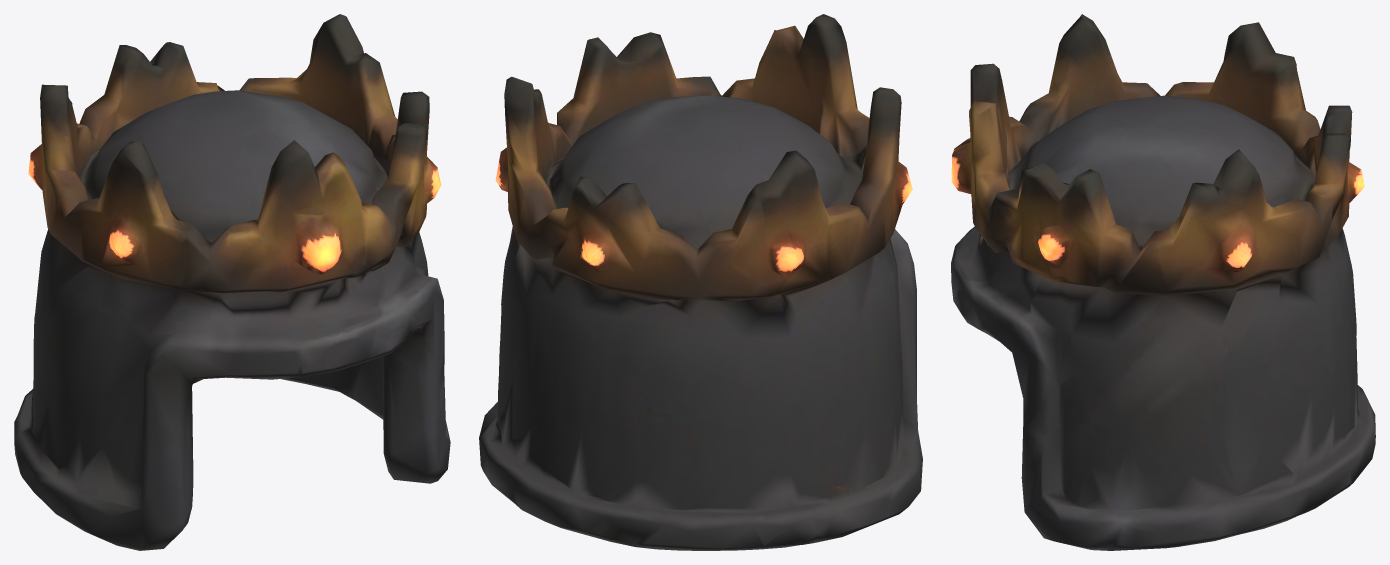
File: hat_ashCrownHelm-DMRzamzP.glb
The picture shows the model from 3 angles, left to right: view 1: azimuth 30°, elevation 25°; view 2: azimuth 150°, elevation 25°; view 3: azimuth 270°, elevation 25°; orthographic projection. The views are drawn at different scales.
Parts seen in each view (by area): view 1: tripo_node_bdce135e-5621-4349-9e82-29e80a33fc45; view 2: tripo_node_bdce135e-5621-4349-9e82-29e80a33fc45; view 3: tripo_node_bdce135e-5621-4349-9e82-29e80a33fc45.
Part boxes in pixels (x1,y1,x2,y2): tripo_node_bdce135e-5621-4349-9e82-29e80a33fc45: (14, 14, 450, 550); tripo_node_bdce135e-5621-4349-9e82-29e80a33fc45: (479, 14, 922, 550); tripo_node_bdce135e-5621-4349-9e82-29e80a33fc45: (951, 14, 1375, 550).
Bounding box in the file's own units: 0.9961 × 1 × 0.9705.
1 material, 1 textured.
